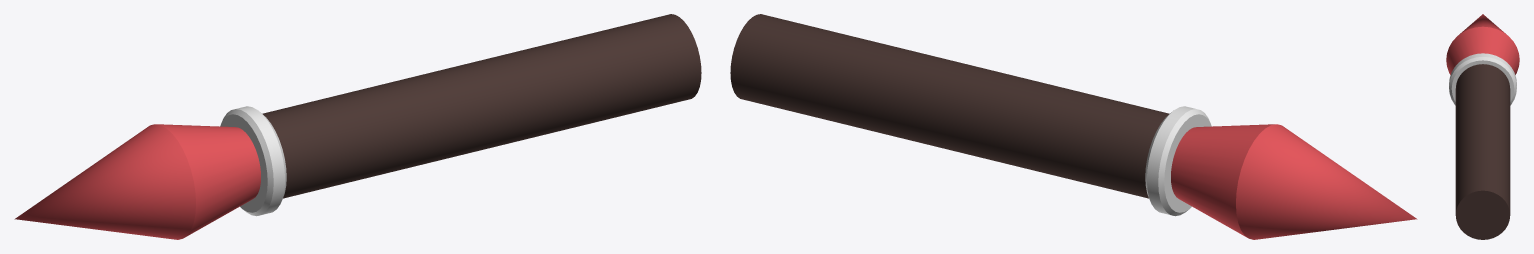
Rendered from spear.fbx.
3 views of the same model, side by side, from view 1: azimuth 30°, elevation 25°; view 2: azimuth 150°, elevation 25°; view 3: azimuth 270°, elevation 25° (orthographic). The views are drawn at different scales.
Parts seen in each view (by area): view 1: spear; view 2: spear; view 3: spear.
Part boxes in pixels (x1,y1,x2,y2): spear: (14, 14, 701, 239); spear: (730, 14, 1417, 239); spear: (1446, 14, 1519, 239).
Bounding box in the file's own units: 175 × 27 × 27.
